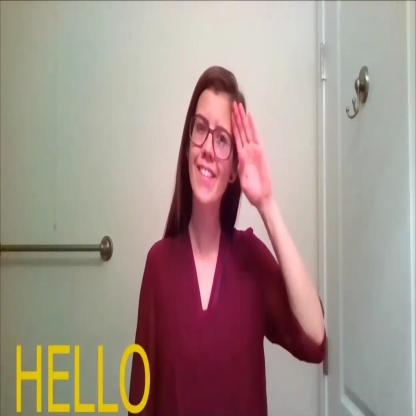Hello: (177, 51, 299, 275)
